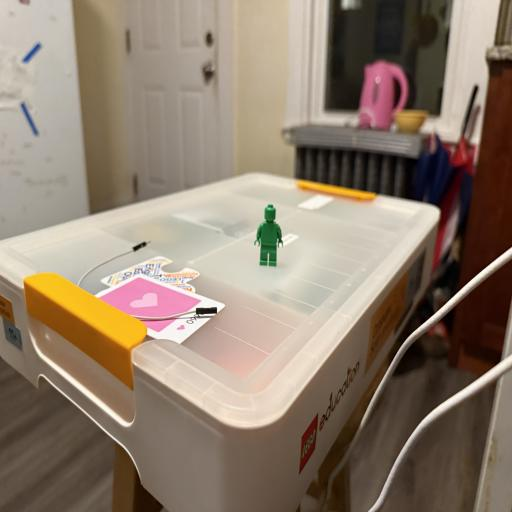Minifig: (254, 204, 283, 266)
